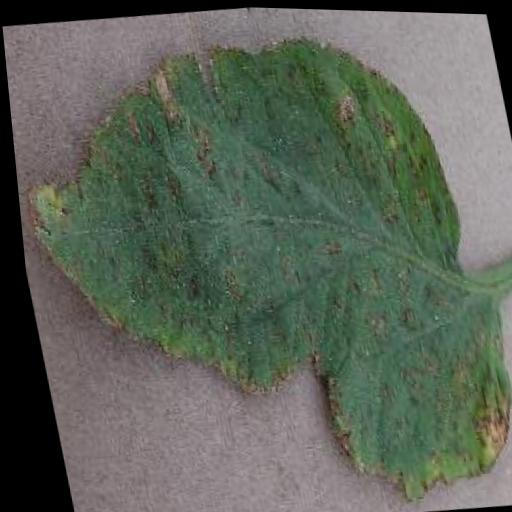Bacterial Spot: (0, 5, 512, 512)
